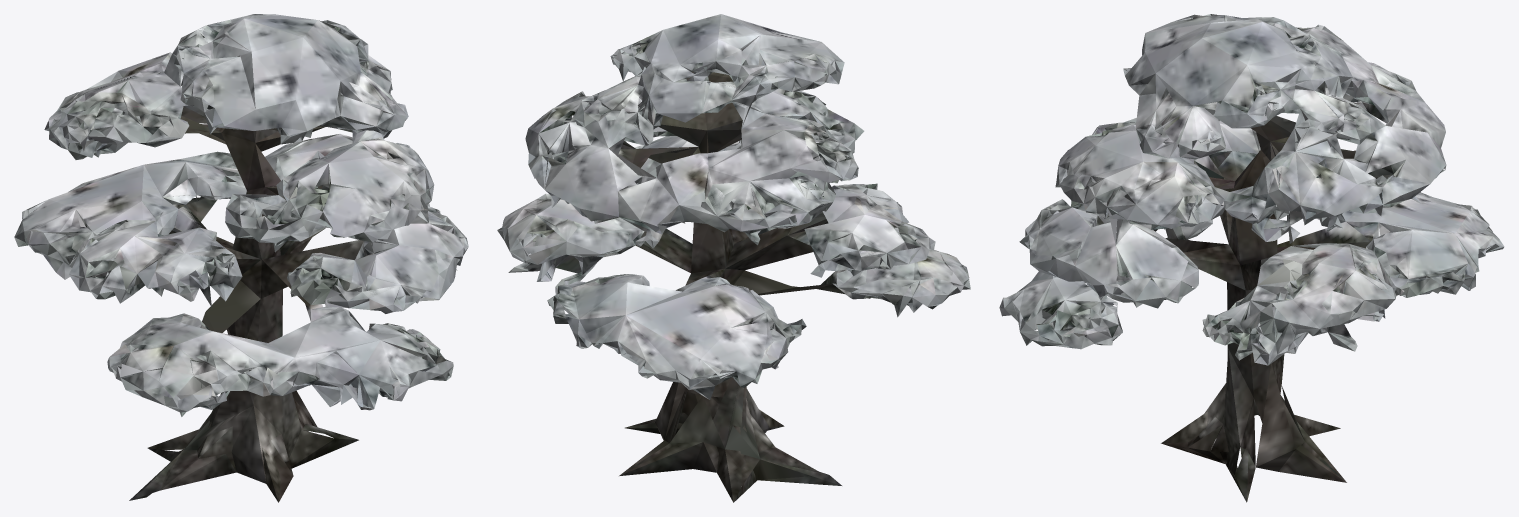
File: pine.glb
3 renders of one model, left to right at view 1: azimuth 30°, elevation 25°; view 2: azimuth 150°, elevation 25°; view 3: azimuth 270°, elevation 25°, orthographic. The views are drawn at different scales.
Visible parts, largest first — view 1: pine; view 2: pine; view 3: pine.
Part boxes in pixels (<box>): pine: <box>14,14,468,502</box>; pine: <box>497,14,970,502</box>; pine: <box>999,14,1504,502</box>.
Size of the model in its own units: 3.3 by 3.6 by 3.79.
Materials: 1 (1 with a texture image).
